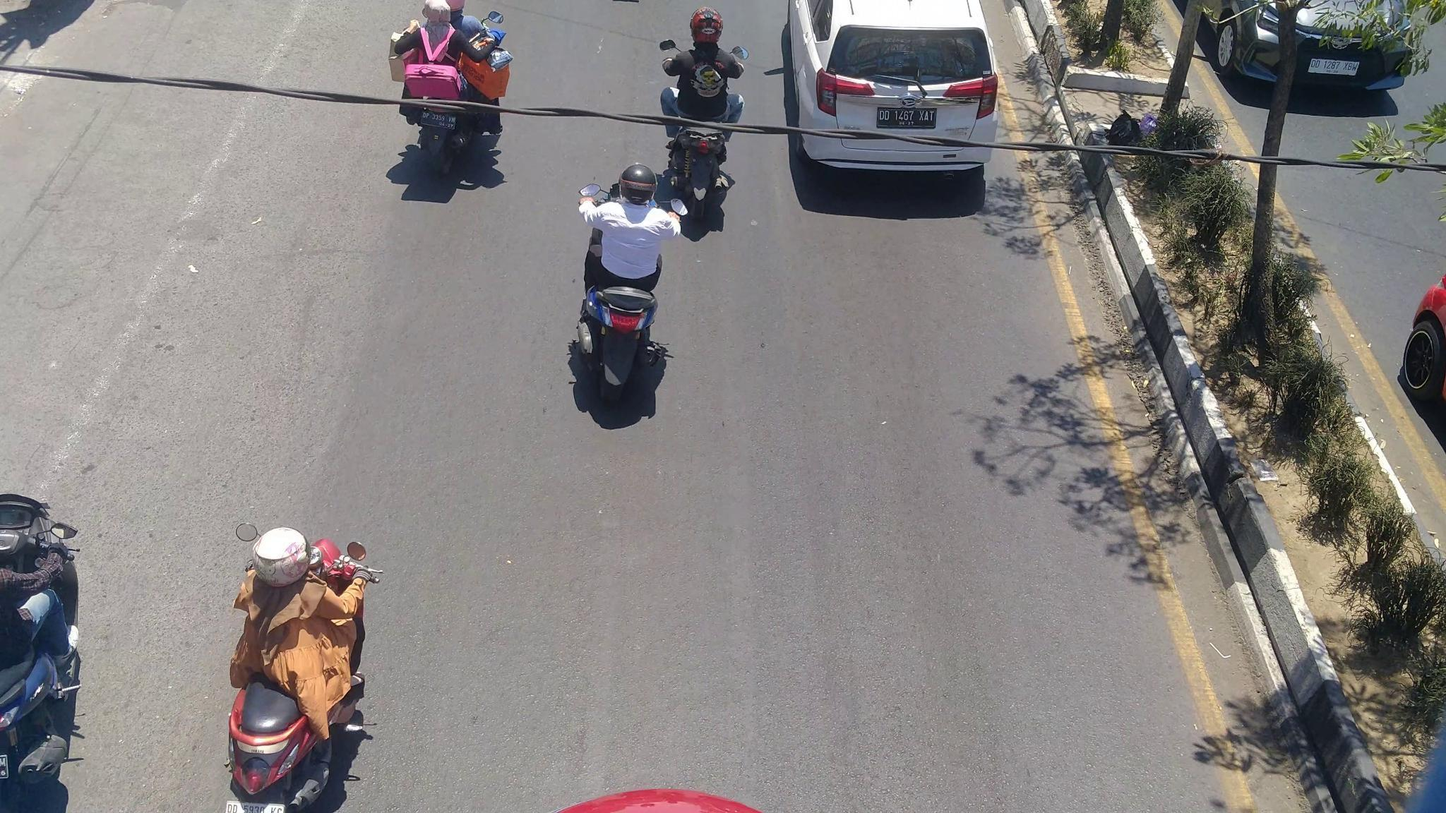Helmet: (244, 525, 322, 595), (614, 160, 660, 213), (681, 4, 729, 51)
bike: (224, 523, 380, 813), (578, 180, 688, 402), (395, 10, 506, 176), (655, 32, 750, 209)
no-helmet: (419, 0, 459, 33)
number-plate: (415, 109, 460, 134)
rider: (237, 520, 368, 713), (581, 160, 683, 297), (659, 4, 748, 142), (396, 0, 497, 105)
